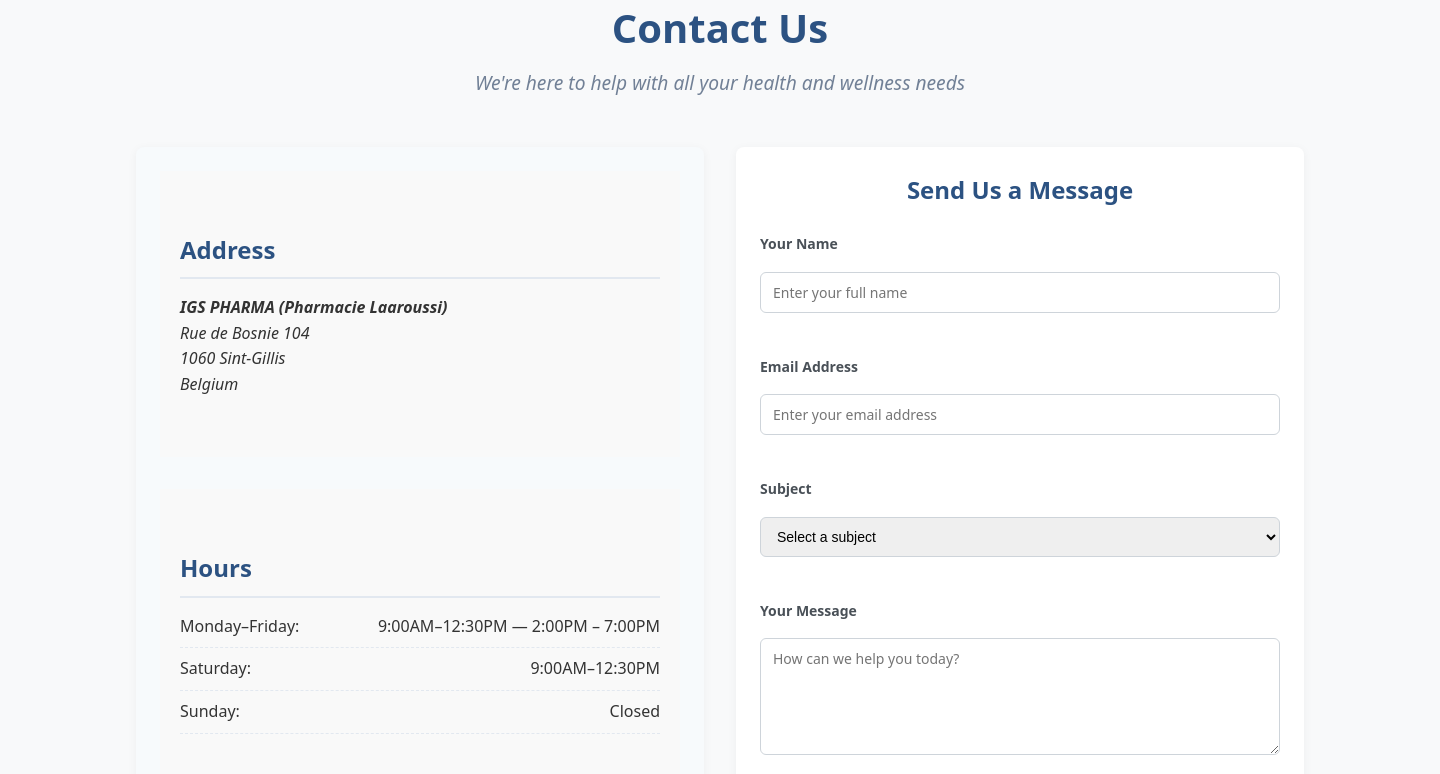
Test: ContactUs Component › changes button text to "Sending..." during form submission
// Fill out the form
Type "Test User" into the field labelled "Your Name".
click(1020, 292); type("Test User")  # box [760,272,1280,312]
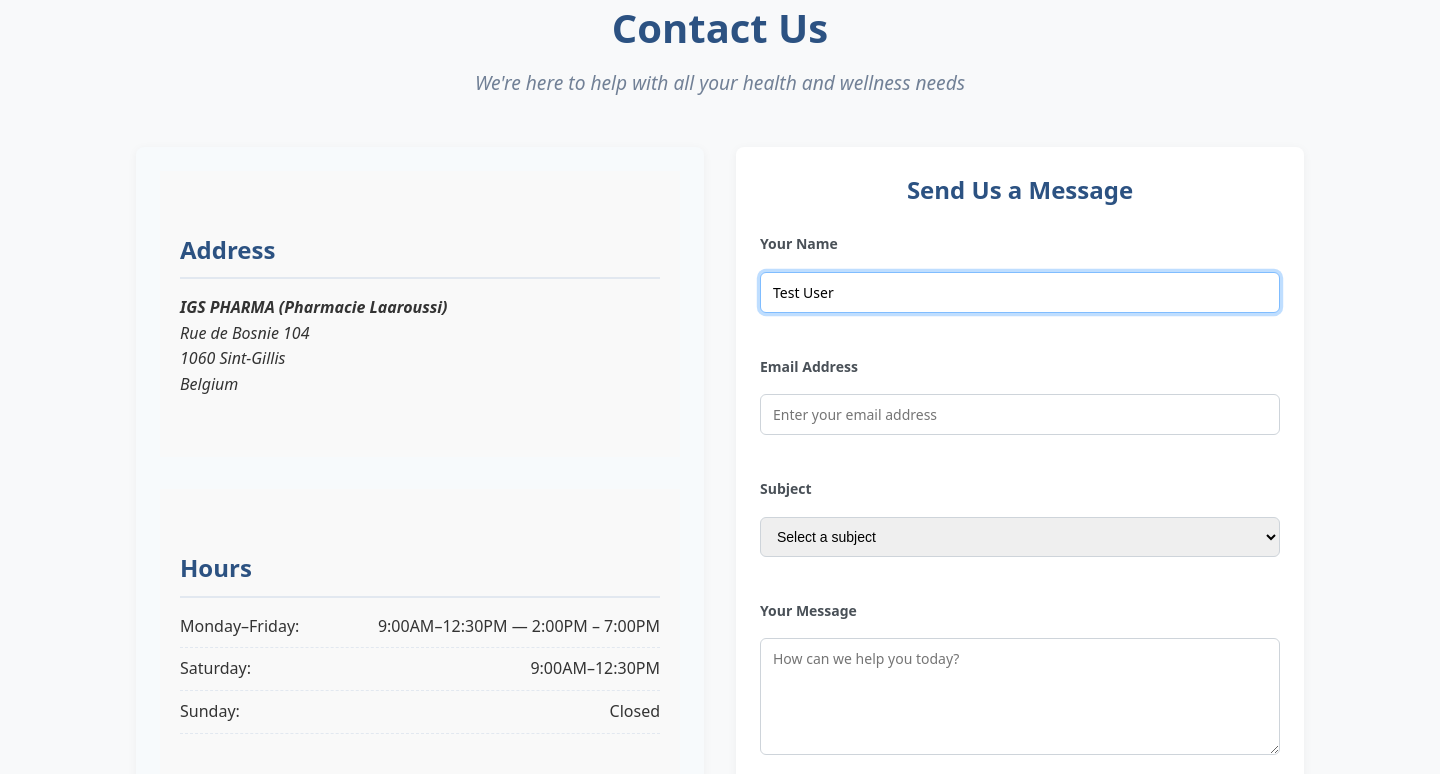
Type "test@example.com" into the field labelled "Email Address".
click(1020, 415); type("test@example.com")  # box [760,394,1280,435]
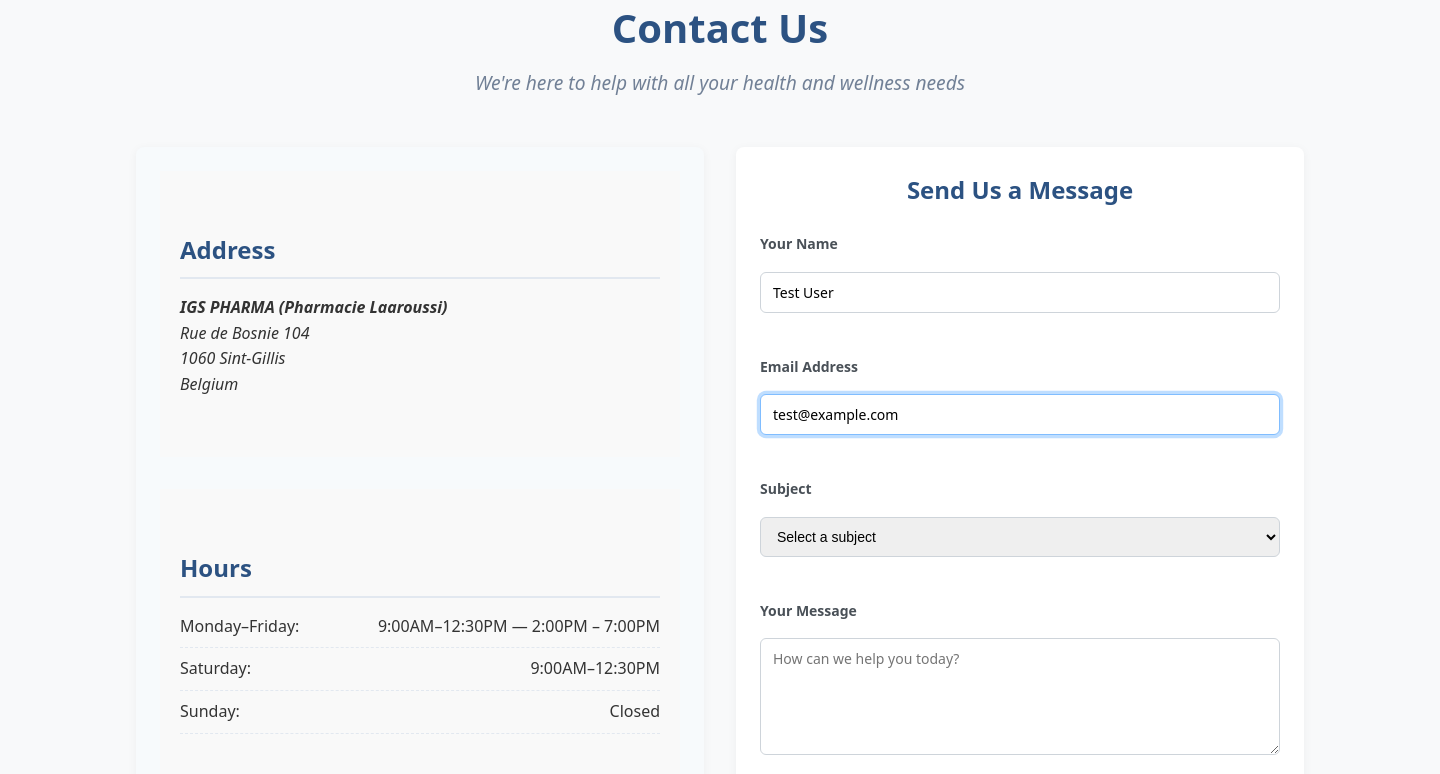
Select "General Inquiry" in the dropdown labelled "Subject" at coordinates (1020, 537), box [760,517,1280,557]
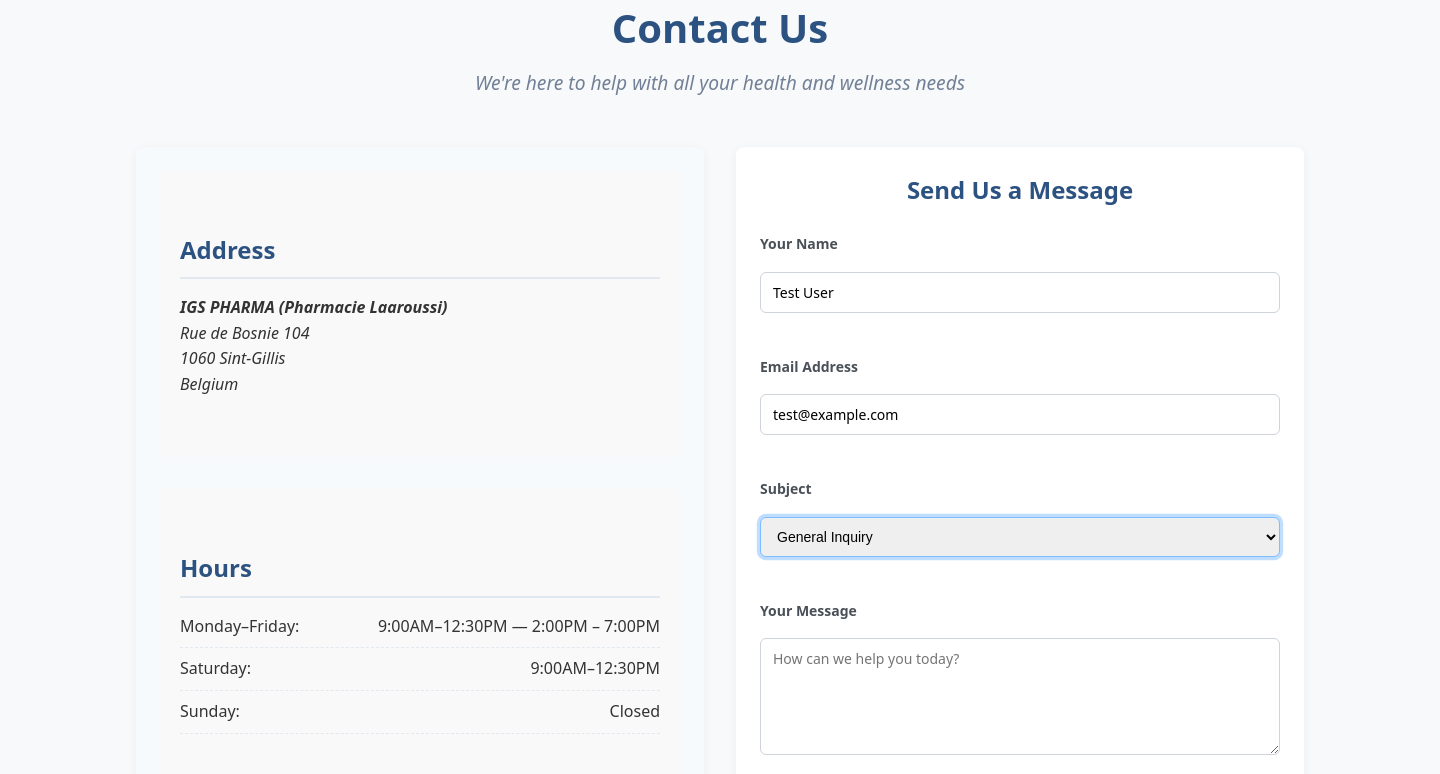
Type "This is a test message" into the text box labelled "Your Message".
click(1020, 697); type("This is a test message")  # box [760,638,1280,755]
(page scrolled)
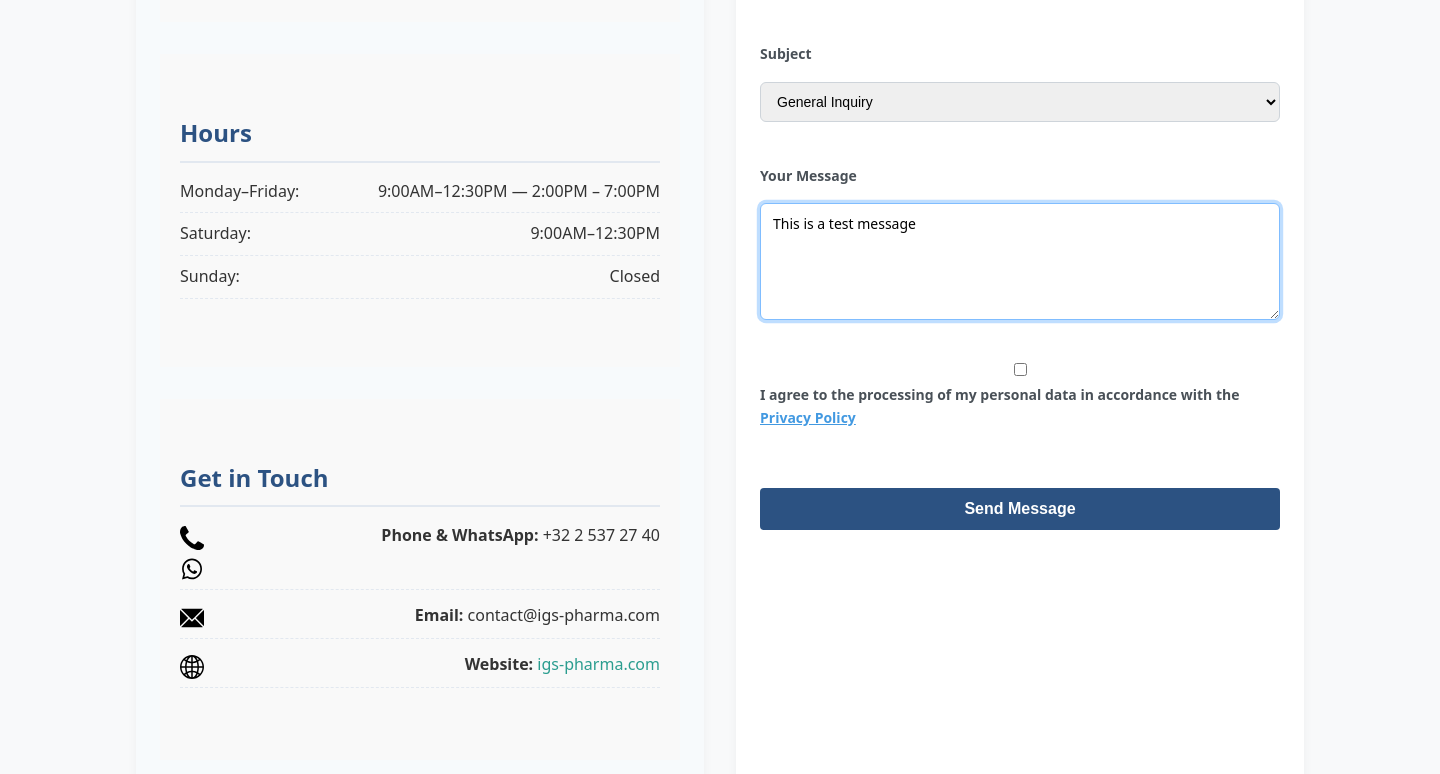
// Check the privacy policy checkbox
Click the checkbox labelled "I agree to the processing of my personal data".
click(1020, 370)  # box [1014,363,1026,376]
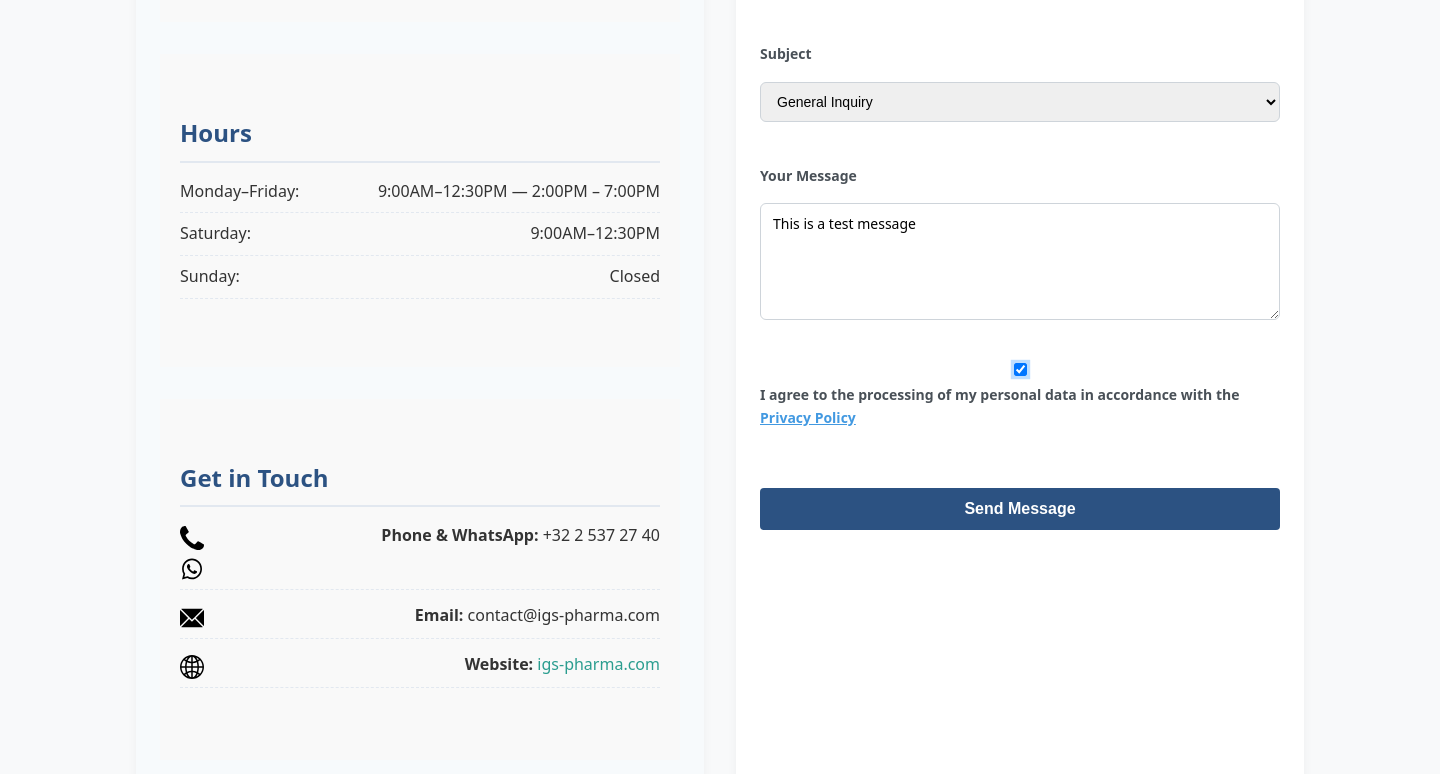
// Submit the form using fireEvent instead of userEvent
Click the button "Send Message".
click(1020, 509)  # box [760,488,1280,530]
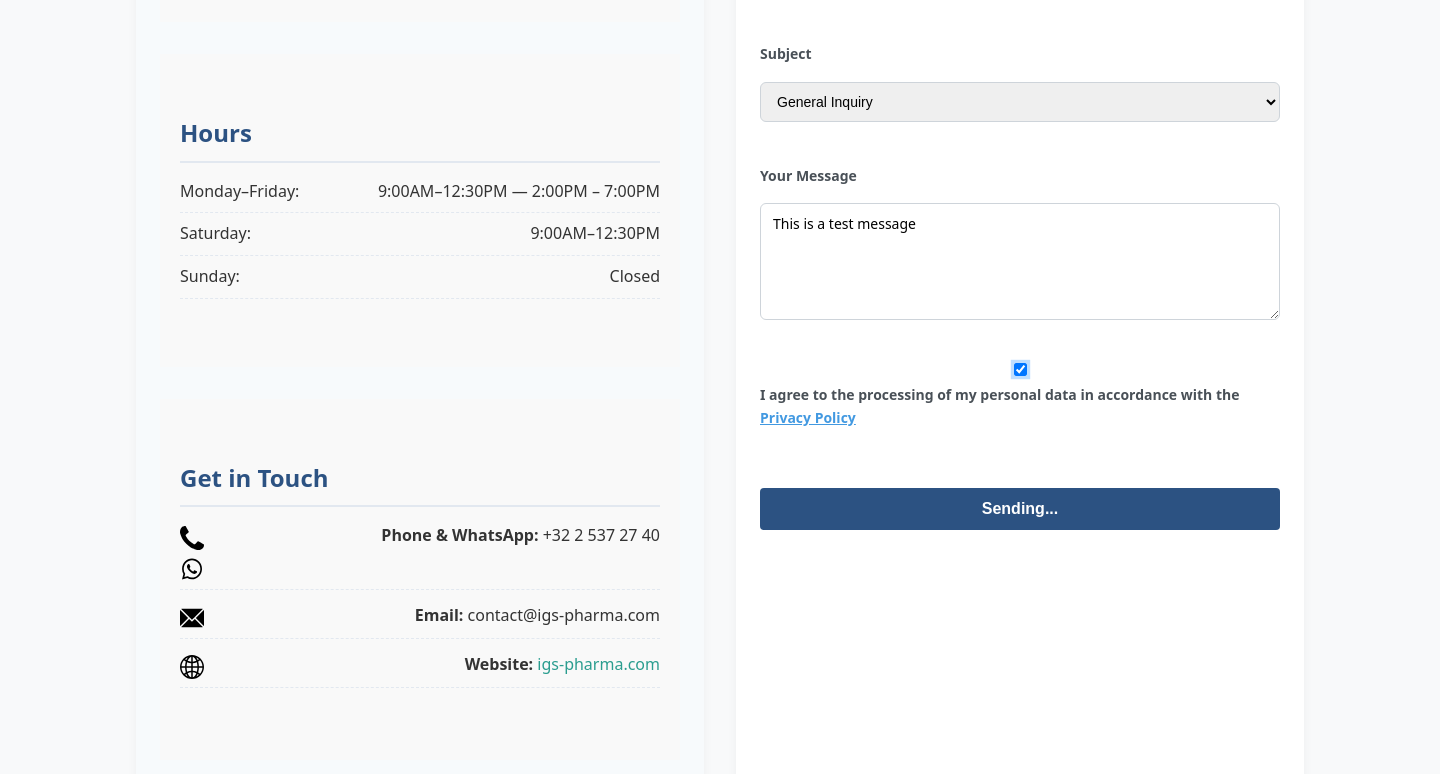
Now the button "Sending..." is shown, box [760,488,1280,530]
